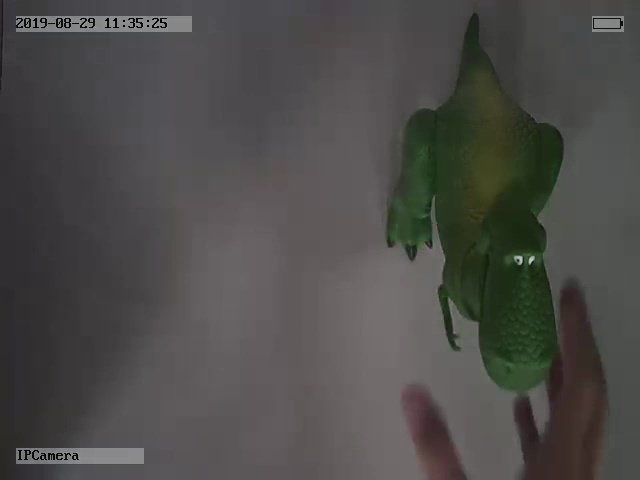rex: (386, 11, 564, 390)
